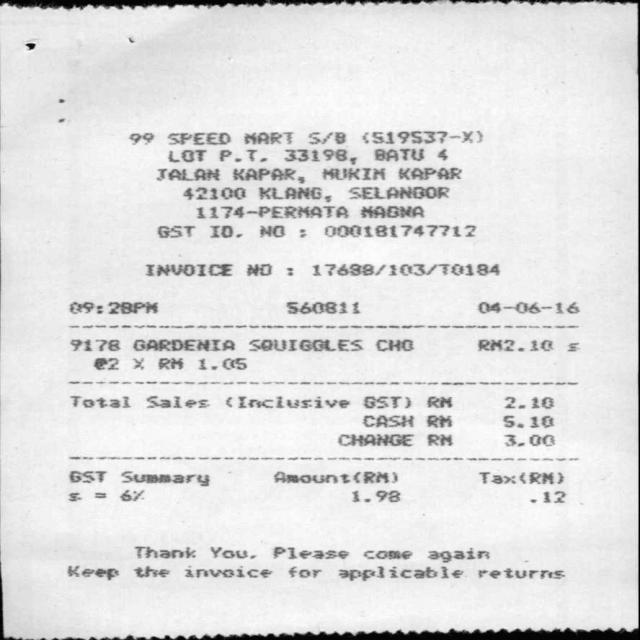text: (311, 263, 498, 275), (337, 565, 462, 580), (195, 205, 348, 217), (324, 224, 474, 236), (273, 471, 397, 483), (361, 131, 481, 143), (121, 470, 208, 486), (225, 396, 347, 407), (247, 339, 361, 350), (477, 301, 578, 313), (348, 186, 448, 198), (232, 167, 303, 183), (132, 339, 233, 350), (256, 186, 328, 201), (284, 149, 355, 164), (144, 263, 230, 275), (70, 301, 156, 313), (478, 471, 561, 483), (476, 567, 563, 578), (184, 566, 270, 577), (336, 434, 414, 446), (272, 546, 346, 558), (284, 301, 357, 313), (427, 547, 487, 561), (477, 339, 551, 350), (182, 186, 244, 199), (167, 132, 229, 144), (156, 168, 218, 180), (360, 205, 422, 217), (145, 395, 207, 407), (69, 395, 130, 407), (66, 566, 117, 580), (322, 168, 384, 179), (397, 168, 459, 179), (133, 546, 194, 557), (373, 148, 424, 161), (501, 415, 552, 428), (362, 414, 413, 426), (503, 434, 554, 446), (243, 132, 290, 144), (198, 357, 245, 369), (363, 396, 410, 408), (505, 396, 552, 408), (218, 148, 264, 160), (69, 339, 119, 350), (210, 546, 254, 558), (352, 490, 399, 501), (167, 149, 205, 162), (308, 132, 344, 144), (68, 470, 104, 482), (529, 490, 564, 502), (132, 565, 167, 577), (156, 226, 194, 237), (376, 339, 412, 350), (208, 225, 240, 237), (363, 550, 410, 558), (287, 566, 319, 577), (425, 434, 453, 446), (259, 225, 284, 237), (426, 414, 451, 426), (246, 263, 270, 275), (92, 358, 116, 370), (157, 357, 182, 368), (426, 396, 450, 407), (128, 133, 153, 143), (119, 490, 142, 500), (437, 148, 448, 160), (566, 342, 577, 352), (132, 358, 142, 368), (68, 492, 79, 500)
